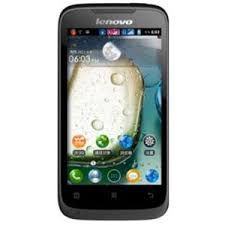lenovo: (54, 1, 171, 225)
